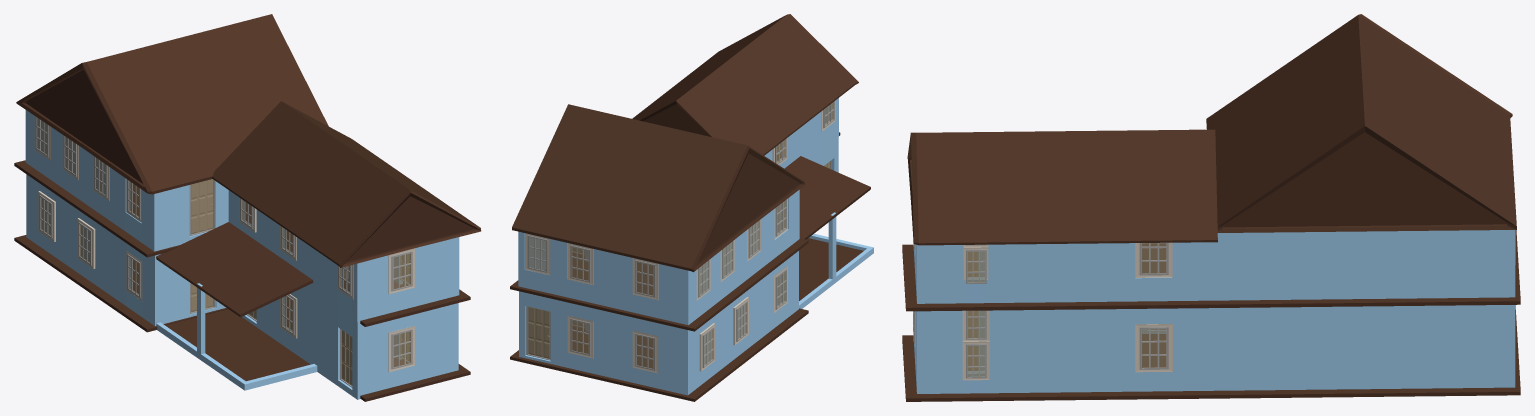
Rendered from casaAzul.fbx.
The picture shows the model from 3 angles, left to right: view 1: azimuth 30°, elevation 25°; view 2: azimuth 150°, elevation 25°; view 3: azimuth 270°, elevation 25°; orthographic projection. The views are drawn at different scales.
Visible parts, largest first — view 1: Victorian:pasted__pCube18, Victorian:pasted__pCube19, Victorian:pasted__pCube15, Victorian:pasted__polySurface1, Victorian:pasted__pCube17, Victorian:pasted__pCube16, Victorian:pasted__pCube20, Victorian:pasted__pCube21, Victorian:pasted__pasted__door (×2), Victorian:pasted__pasted__glass_02 (×2); view 2: Victorian:pasted__pCube18, Victorian:pasted__pCube19, Victorian:pasted__pCube15, Victorian:pasted__polySurface1, Victorian:pasted__pCube17, Victorian:pasted__pCube20, Victorian:pasted__pCube21, Victorian:pasted__pasted__glass_02 (×5), Victorian:pasted__pCube16, Victorian:pasted__pasted__outer_frame_02 (×4), Victorian:pasted__pasted__door; view 3: Victorian:pasted__pCube18, Victorian:pasted__pCube15, Victorian:pasted__polySurface1, Victorian:pasted__pCube19, Victorian:pasted__pCube20, Victorian:pasted__pCube21, Victorian:pasted__pasted__glass_02 (×2), Victorian:pasted__pasted__outer_frame_02.
Part boxes in pixels (x1,y1,x2,y2): Victorian:pasted__pCube18: (16,14,328,194); Victorian:pasted__pCube19: (212,101,481,267); Victorian:pasted__pCube15: (26,174,458,399); Victorian:pasted__polySurface1: (25,110,459,321); Victorian:pasted__pCube17: (156,222,313,317); Victorian:pasted__pCube16: (165,309,310,381); Victorian:pasted__pCube20: (14,235,470,401); Victorian:pasted__pCube21: (14,160,470,326); Victorian:pasted__pasted__door (×2): (191,179,352,385); Victorian:pasted__pasted__glass_02 (×2): (393,253,410,367); Victorian:pasted__pCube18: (512,104,805,272); Victorian:pasted__pCube19: (632,14,858,155); Victorian:pasted__pCube15: (519,137,873,395); Victorian:pasted__polySurface1: (518,98,838,325); Victorian:pasted__pCube17: (784,156,870,239); Victorian:pasted__pCube20: (510,308,808,401); Victorian:pasted__pCube21: (510,132,840,331); Victorian:pasted__pasted__glass_02 (×5): (529,237,653,368); Victorian:pasted__pCube16: (799,238,863,300); Victorian:pasted__pasted__outer_frame_02 (×4): (567,243,658,373); Victorian:pasted__pasted__door: (528,306,549,358); Victorian:pasted__pCube18: (1206,14,1516,232); Victorian:pasted__pCube15: (914,305,1515,393); Victorian:pasted__polySurface1: (913,230,1515,303); Victorian:pasted__pCube19: (907,129,1217,245); Victorian:pasted__pCube20: (902,305,1520,401); Victorian:pasted__pCube21: (902,230,1520,311); Victorian:pasted__pasted__glass_02 (×2): (1142,242,1166,367); Victorian:pasted__pasted__outer_frame_02: (1135,324,1172,372).
Size of the model in its own units: 28.7 by 27.93 by 57.62.
